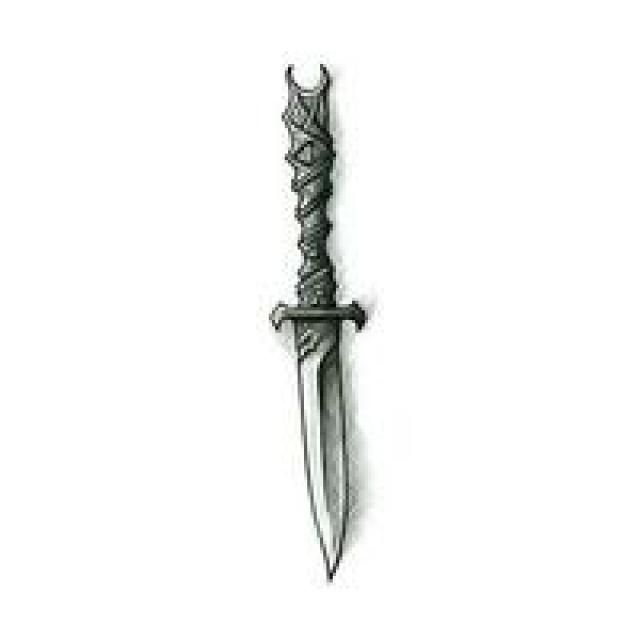Gun: (228, 72, 401, 599)
